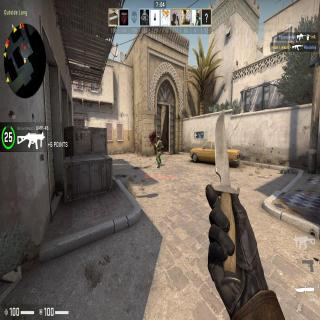CT-Body: (154, 133, 162, 167)
CT-Head: (157, 136, 159, 140)
